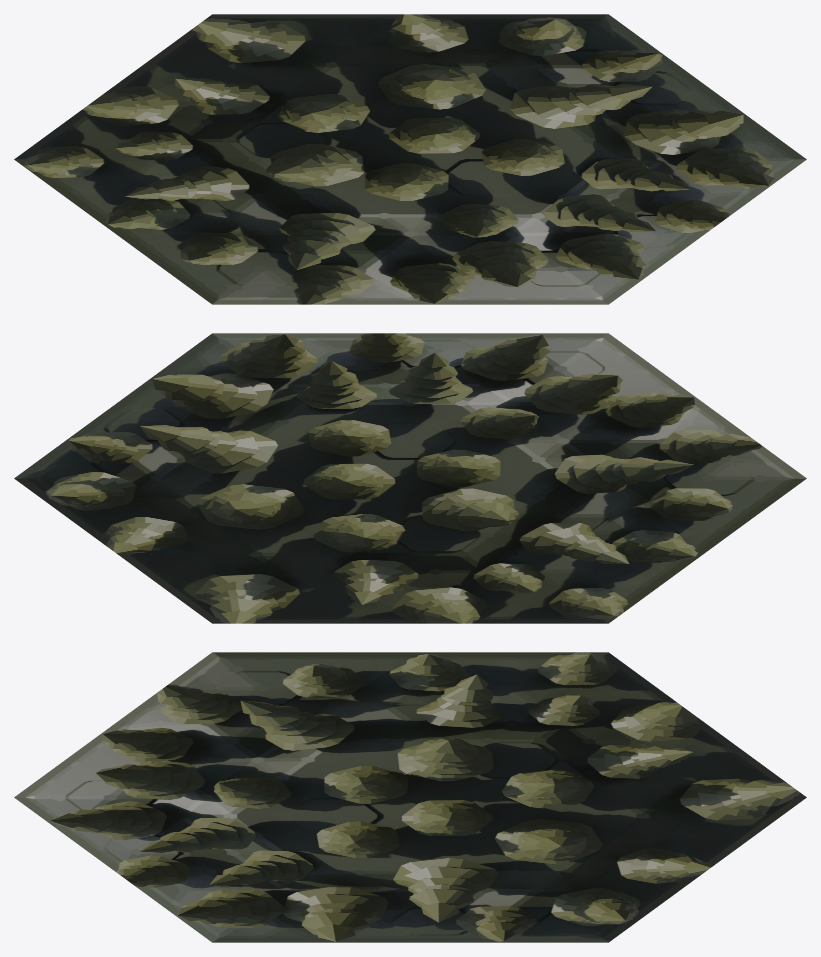
Rendered from taiga.glb.
The picture shows the model from 3 angles, top to bottom: view 1: azimuth 30°, elevation 25°; view 2: azimuth 150°, elevation 25°; view 3: azimuth 270°, elevation 25°; orthographic projection.
Parts seen in each view (by area): view 1: Deciduousforest_flat; view 2: Deciduousforest_flat; view 3: Deciduousforest_flat.
Boxes of the visible parts, box(x1,y1,x2,y2) form: Deciduousforest_flat: box(14, 14, 806, 304); Deciduousforest_flat: box(14, 333, 806, 623); Deciduousforest_flat: box(14, 652, 806, 942).
Size of the model in its own units: 1.73 by 0 by 2.
1 material, 1 textured.
